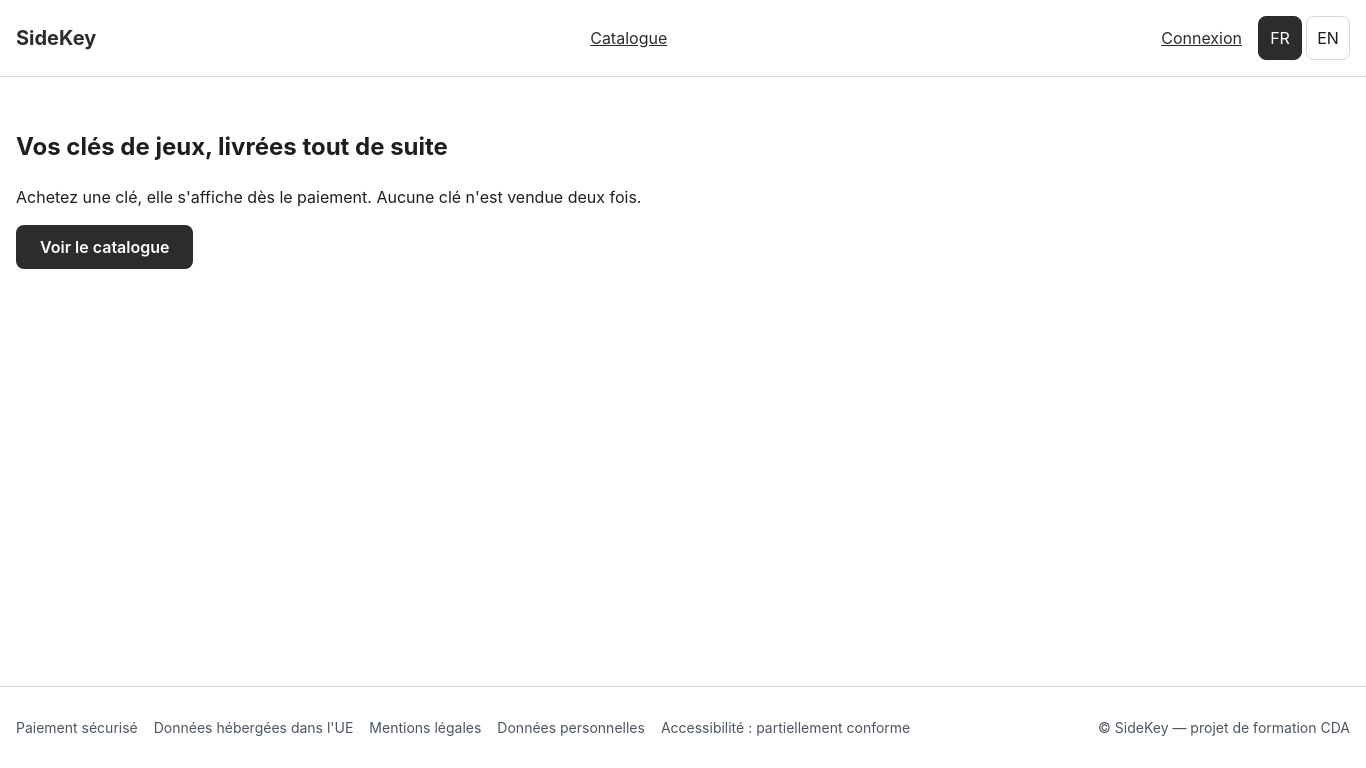
Scenario: LanguageSwitcher › passe l'interface en anglais, met à jour lang et mémorise le choix
The width and height of the screenshot is (1366, 768).
Step 1. Click the button with aria-label "English" → [1328, 38], box [1306,16,1350,60]
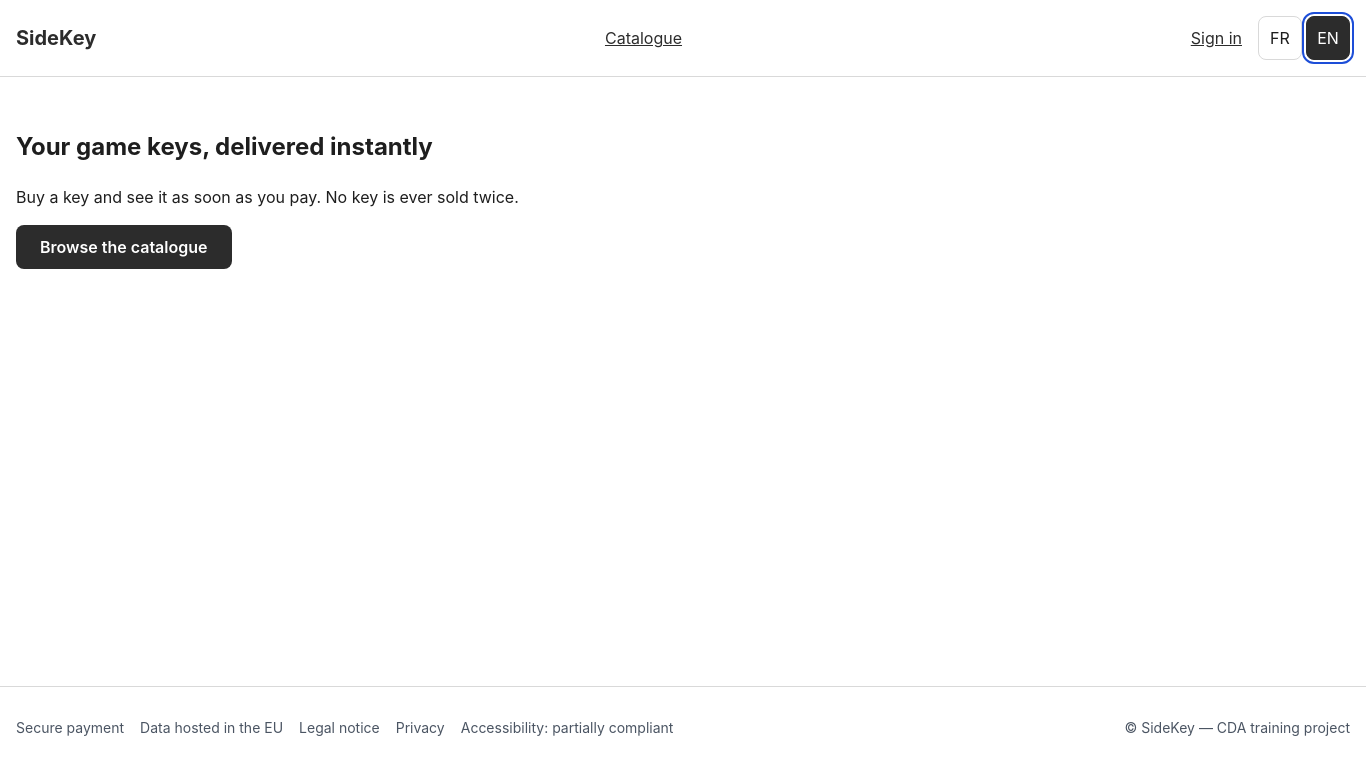
Check: the element named "Language" is shown, box [1258,16,1350,60]
Check: the heading reads "Your game keys, delivered instantly", box [16,132,433,161]
